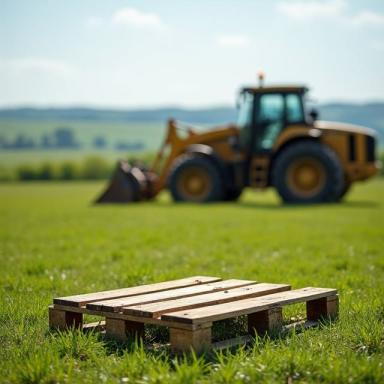pallet: (48, 275, 339, 366), (211, 315, 248, 354), (128, 323, 170, 348), (283, 301, 307, 333)
